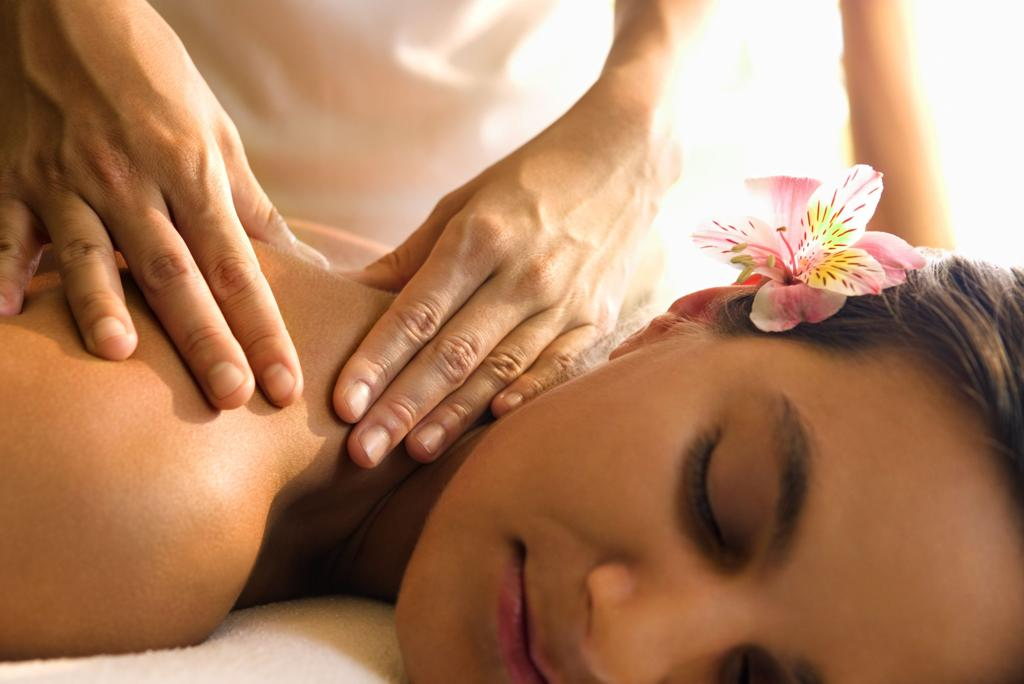face: (398, 384, 1024, 684)
